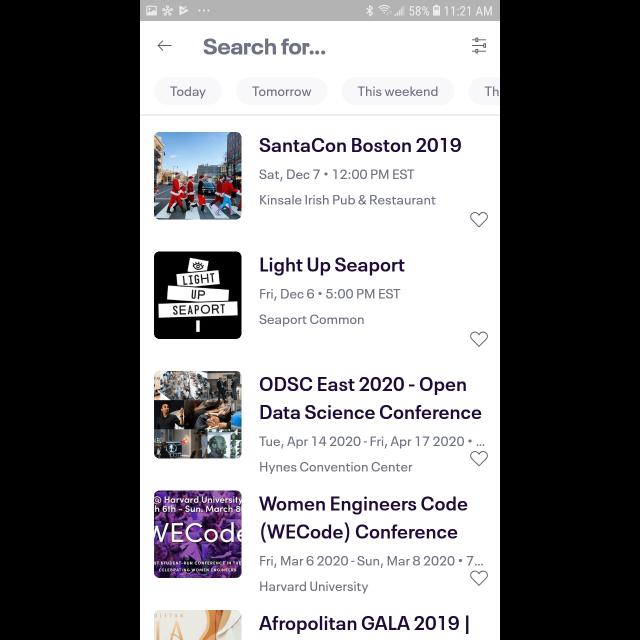icon: (470, 212, 488, 228), (470, 332, 488, 348), (470, 451, 488, 467), (470, 570, 488, 586), (472, 38, 486, 54), (157, 40, 171, 50)
image: (154, 490, 242, 578), (154, 371, 242, 459), (154, 252, 242, 340), (154, 132, 242, 220), (154, 610, 242, 640)
text: (259, 496, 467, 544), (260, 376, 482, 419), (259, 616, 469, 634), (259, 138, 461, 154), (261, 256, 405, 276), (259, 436, 485, 448), (261, 556, 484, 568), (260, 288, 400, 302), (203, 38, 325, 54), (260, 170, 414, 182), (260, 462, 412, 474), (260, 195, 436, 205), (260, 582, 368, 594), (260, 314, 364, 326)
textbutton: (342, 78, 454, 106), (236, 78, 328, 106), (154, 77, 222, 106), (468, 76, 499, 105)
uppertaskbar: (140, 1, 500, 22)
